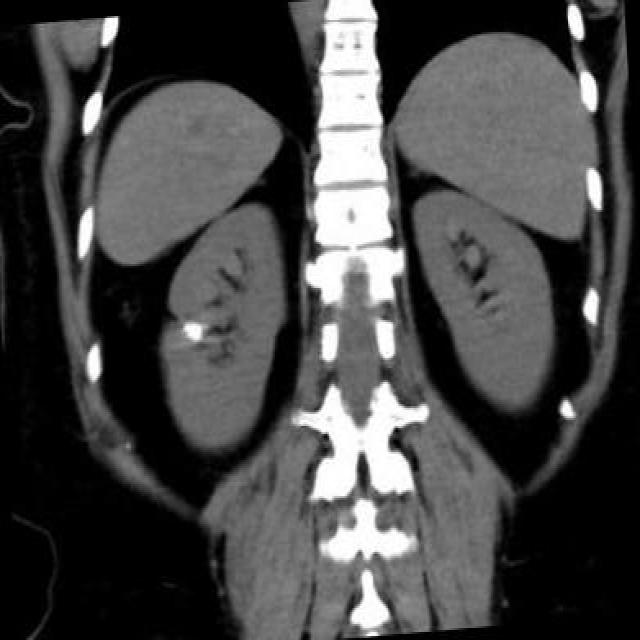Tas_Var: (179, 317, 202, 347)
